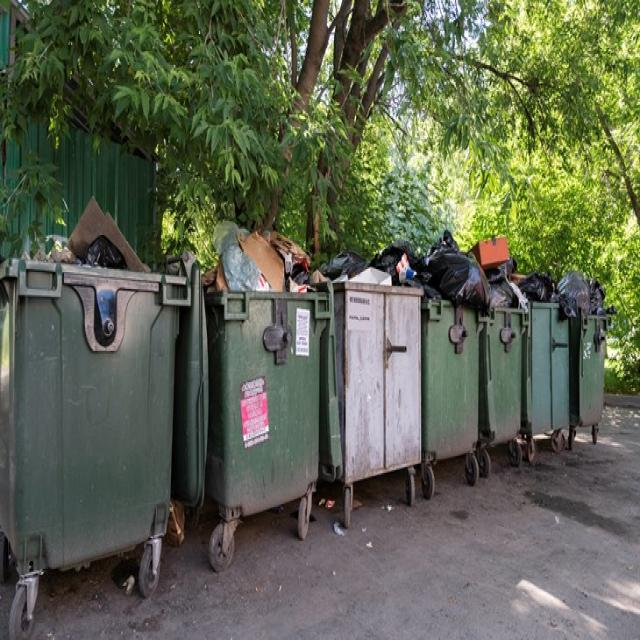bin: (0, 251, 607, 640)
plastic: (310, 229, 617, 317), (19, 196, 151, 272), (202, 221, 313, 293)
